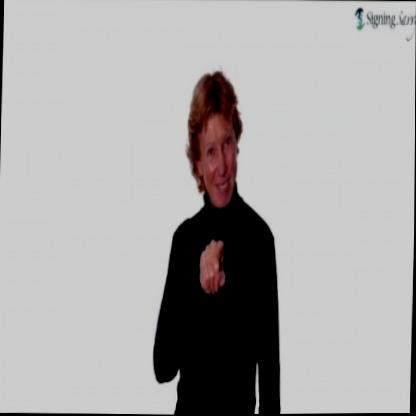NiceToMeetYou: (191, 215, 233, 327)
